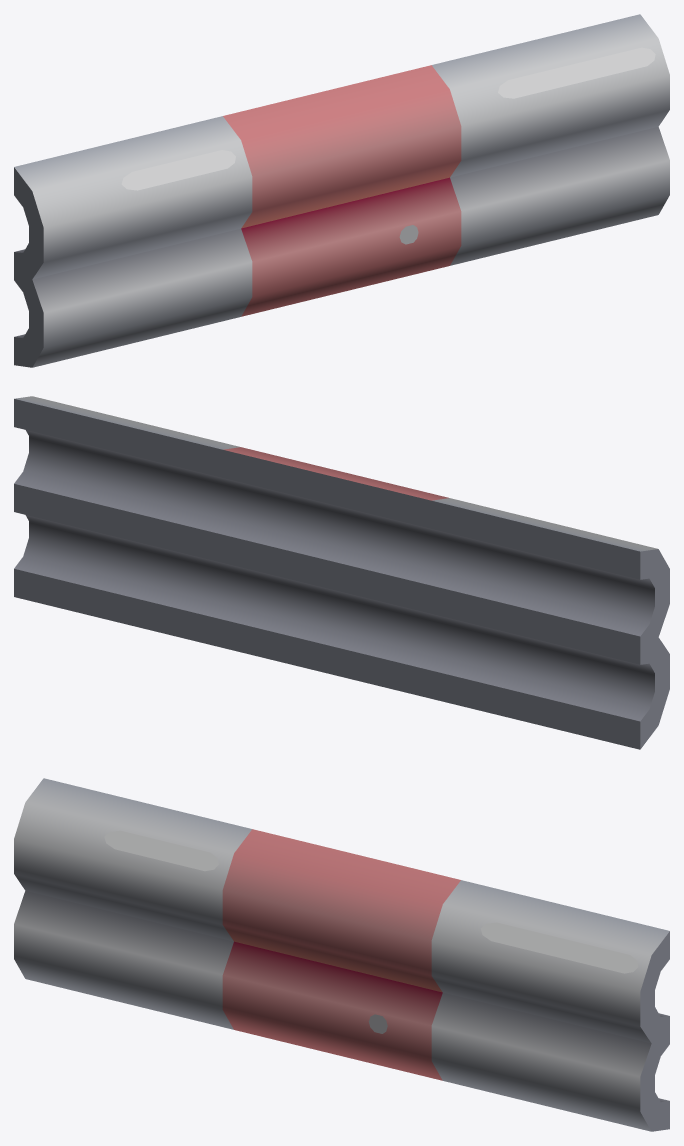
Rendered from SmallPanelRed.glb.
3 views of the same model, one above another, from view 1: azimuth 30°, elevation 25°; view 2: azimuth 150°, elevation 25°; view 3: azimuth 330°, elevation 25° (orthographic).
Visible parts, largest first — view 1: SmallPanelRed; view 2: SmallPanelRed; view 3: SmallPanelRed.
Boxes of the visible parts, <box> form: SmallPanelRed: <box>14,14,669,367</box>; SmallPanelRed: <box>14,396,669,749</box>; SmallPanelRed: <box>14,778,669,1131</box>.
Bounding box in the file's own units: 1.08 × 0.3274 × 0.0908.
